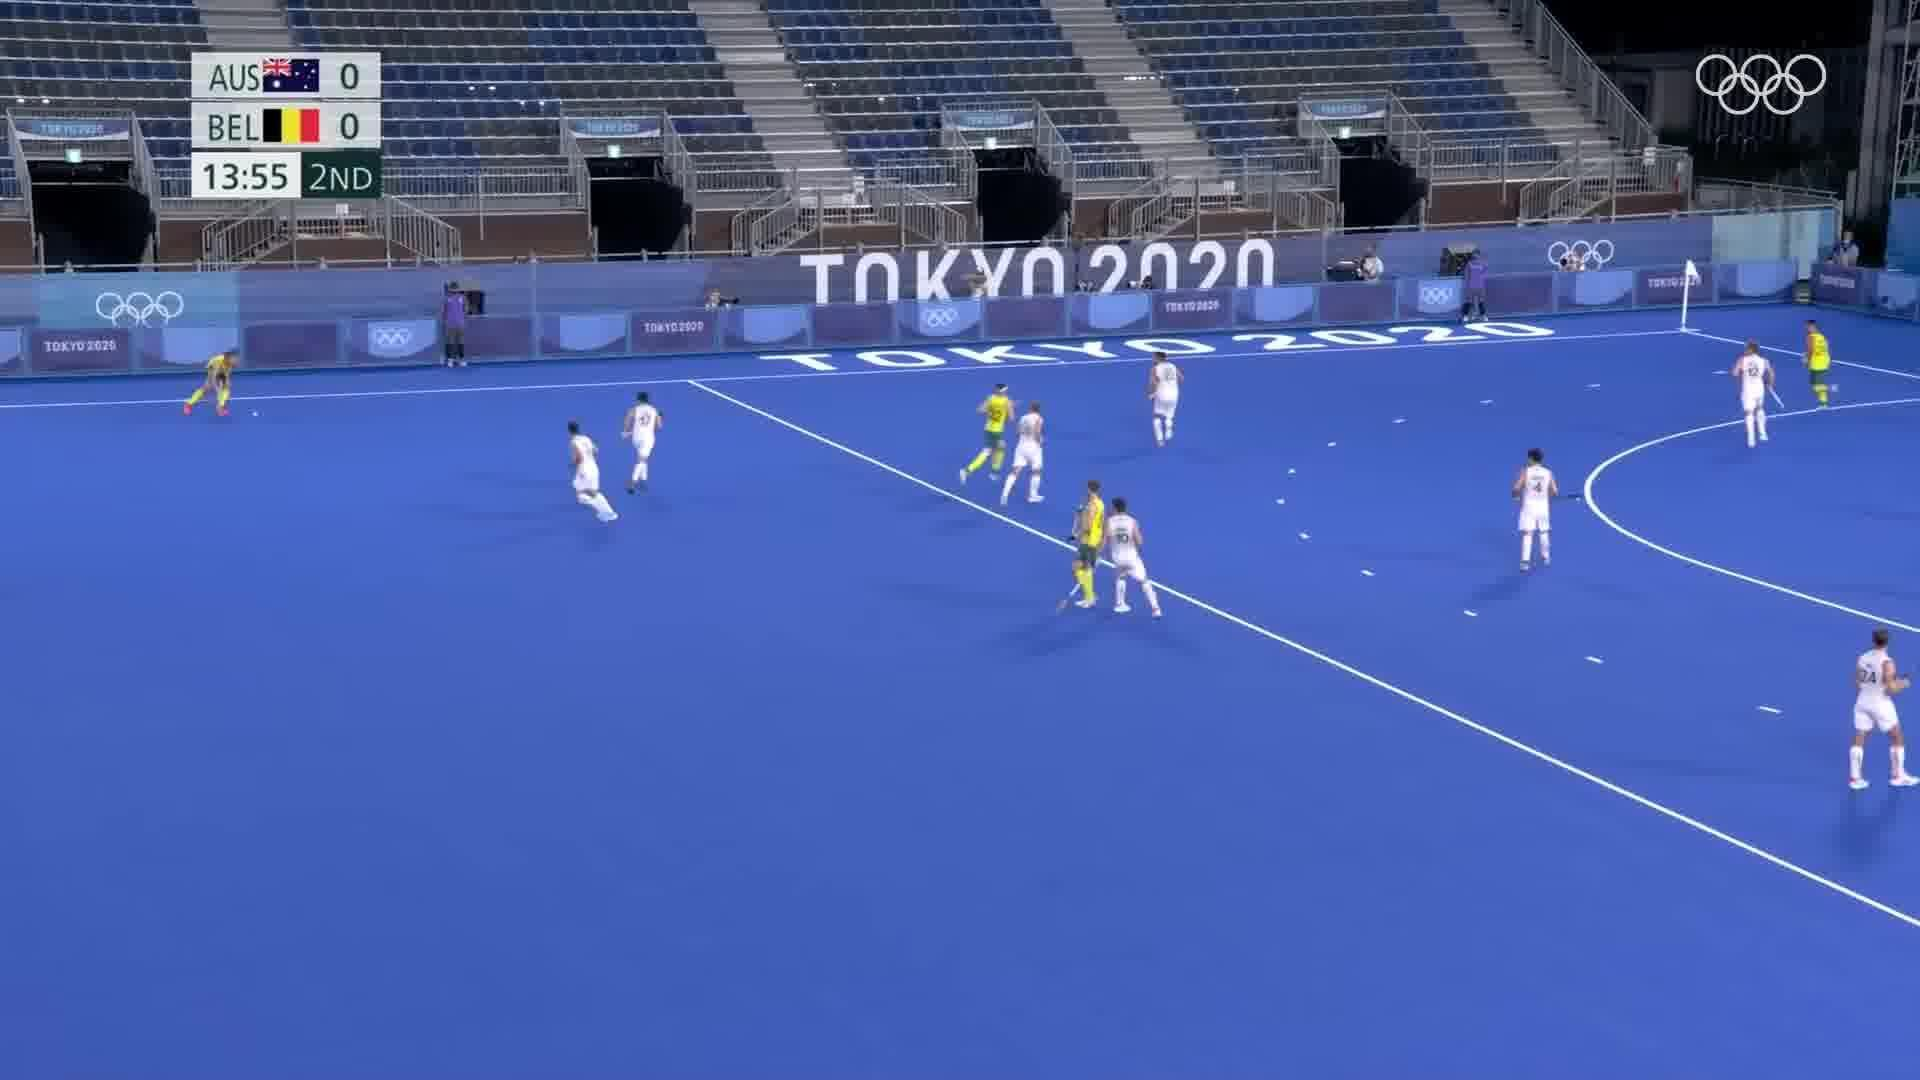ball: (245, 406, 265, 423)
